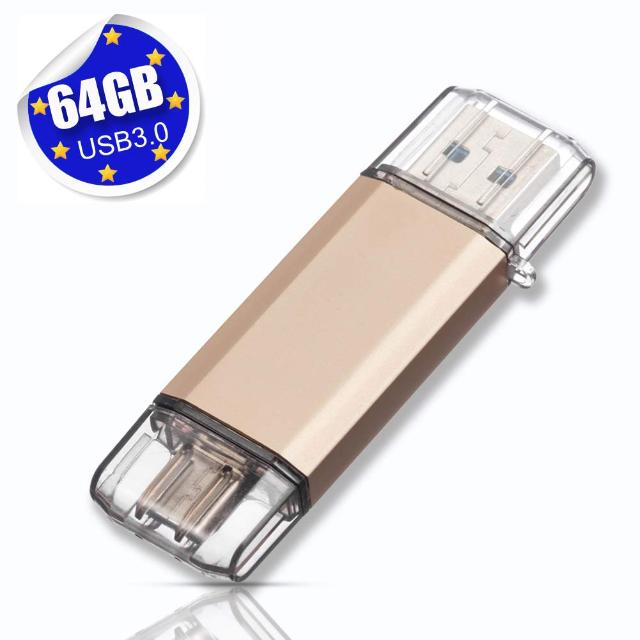USB-Flash-Drive: (89, 88, 596, 586)
